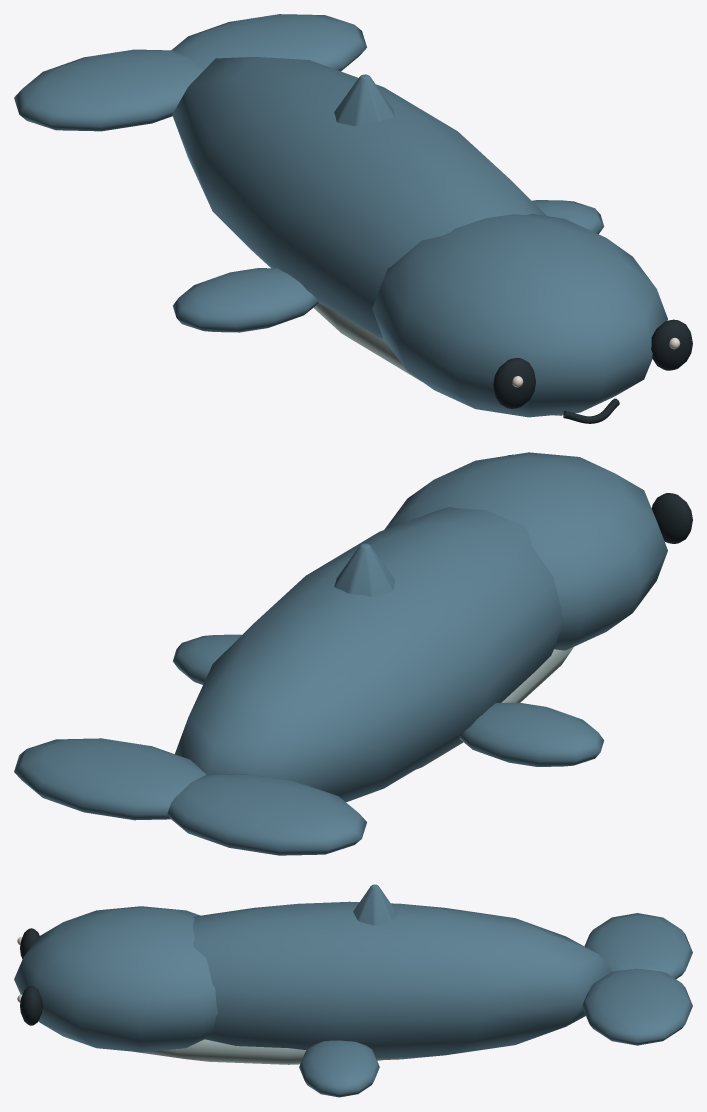
Rendered from org_bluewhale.glb.
3 views of the same model, one above another, from view 1: azimuth 30°, elevation 25°; view 2: azimuth 150°, elevation 25°; view 3: azimuth 270°, elevation 25° (orthographic). The views are drawn at different scales.
Parts seen in each view (by area): view 1: Body, Head, Tail, Fin_R, Eye_R, Eye_L, Fin_L; view 2: Body, Head, Tail, Fin_R, Fin_L, Eye_R; view 3: Body, Head, Tail, Fin_L, Eye_L, Eye_R.
Boxes of the visible parts, bbox=[...] form: Body: bbox=[172, 57, 563, 415]; Head: bbox=[372, 213, 667, 423]; Tail: bbox=[14, 14, 366, 131]; Fin_R: bbox=[173, 268, 318, 332]; Eye_R: bbox=[493, 358, 535, 408]; Eye_L: bbox=[651, 319, 692, 370]; Fin_L: bbox=[532, 200, 604, 234]; Body: bbox=[175, 507, 573, 802]; Head: bbox=[384, 452, 667, 650]; Tail: bbox=[14, 738, 366, 855]; Fin_R: bbox=[459, 702, 603, 766]; Fin_L: bbox=[173, 634, 241, 684]; Eye_R: bbox=[651, 493, 692, 543]; Body: bbox=[134, 884, 612, 1064]; Head: bbox=[14, 906, 217, 1052]; Tail: bbox=[582, 913, 692, 1045]; Fin_L: bbox=[299, 1040, 379, 1097]; Eye_L: bbox=[17, 986, 42, 1025]; Eye_R: bbox=[17, 928, 39, 958].
Bounding box in the file's own units: 2.44 × 1.21 × 4.5.
